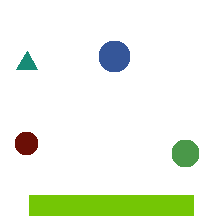circle: (99, 41, 129, 71), (172, 140, 198, 166), (15, 132, 37, 154)
rectangle: (29, 195, 193, 215)
triangle: (16, 51, 37, 69)
